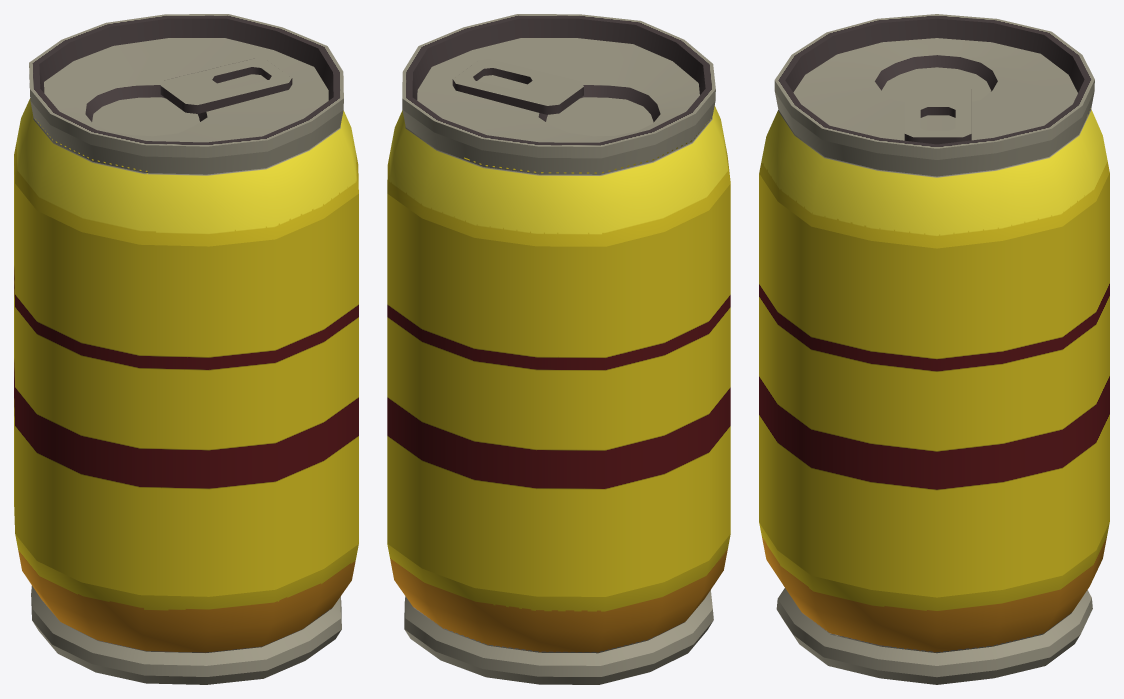
Rendered from Cerveja.fbx.
3 views of the same model, side by side, from view 1: azimuth 30°, elevation 25°; view 2: azimuth 150°, elevation 25°; view 3: azimuth 270°, elevation 25° (orthographic).
Parts seen in each view (by area): view 1: Cylinder; view 2: Cylinder; view 3: Cylinder.
Part boxes in pixels (box(x1,y1,x2,y2)): Cylinder: box(14, 14, 358, 684); Cylinder: box(387, 14, 730, 684); Cylinder: box(759, 14, 1109, 684).
Size of the model in its own units: 192 by 327 by 193.
Materials: 1 (1 with a texture image).
